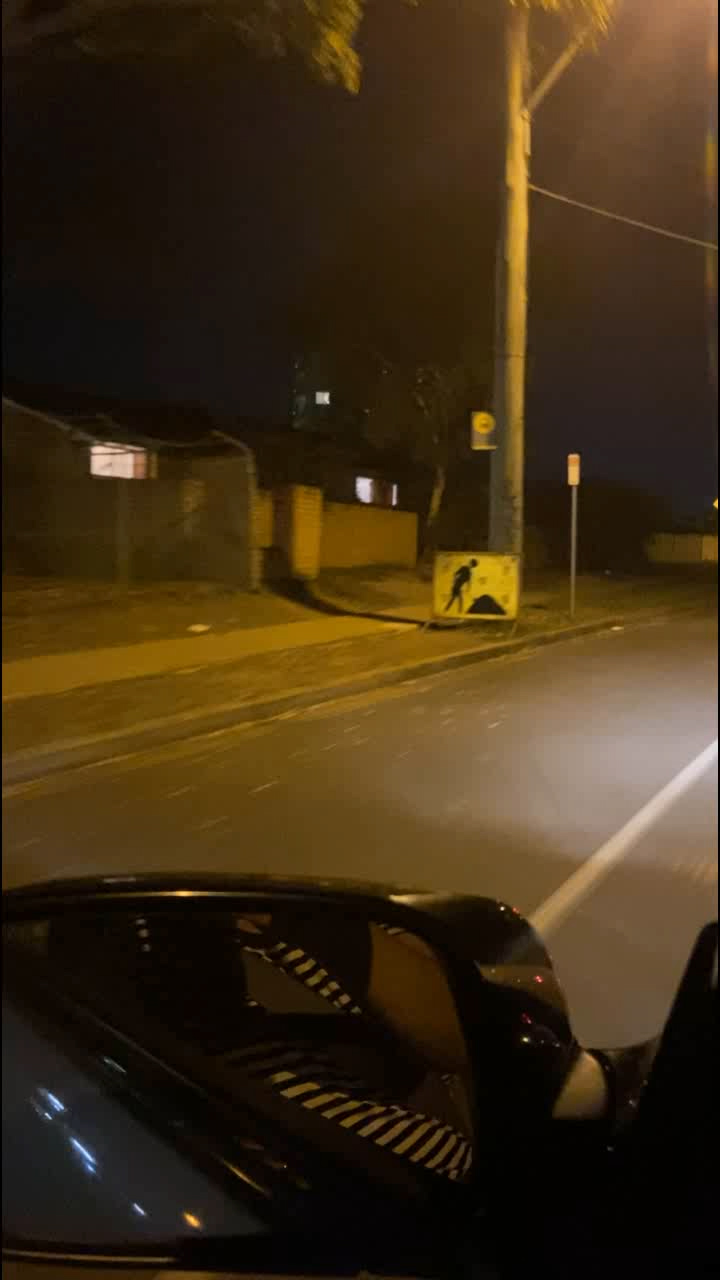road works sign board: (432, 550, 518, 623)
